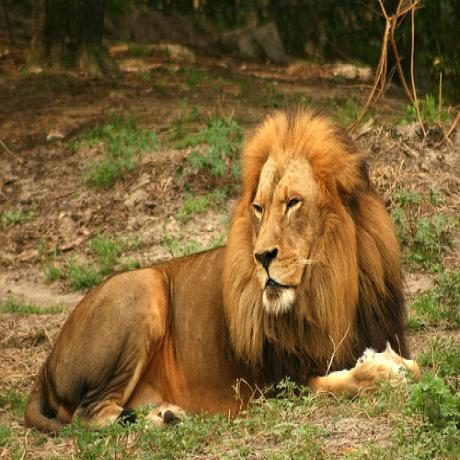Lion: (25, 100, 424, 428)
